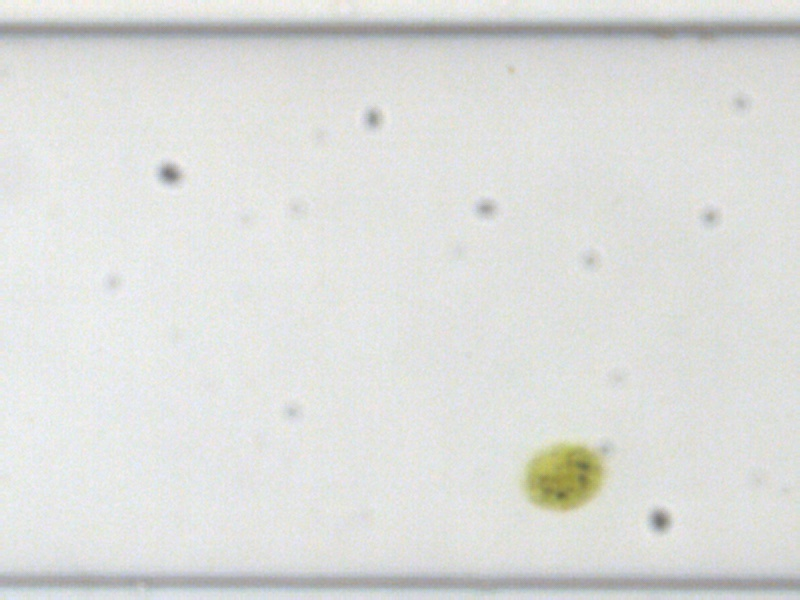Haematococcus: (517, 438, 602, 516)
